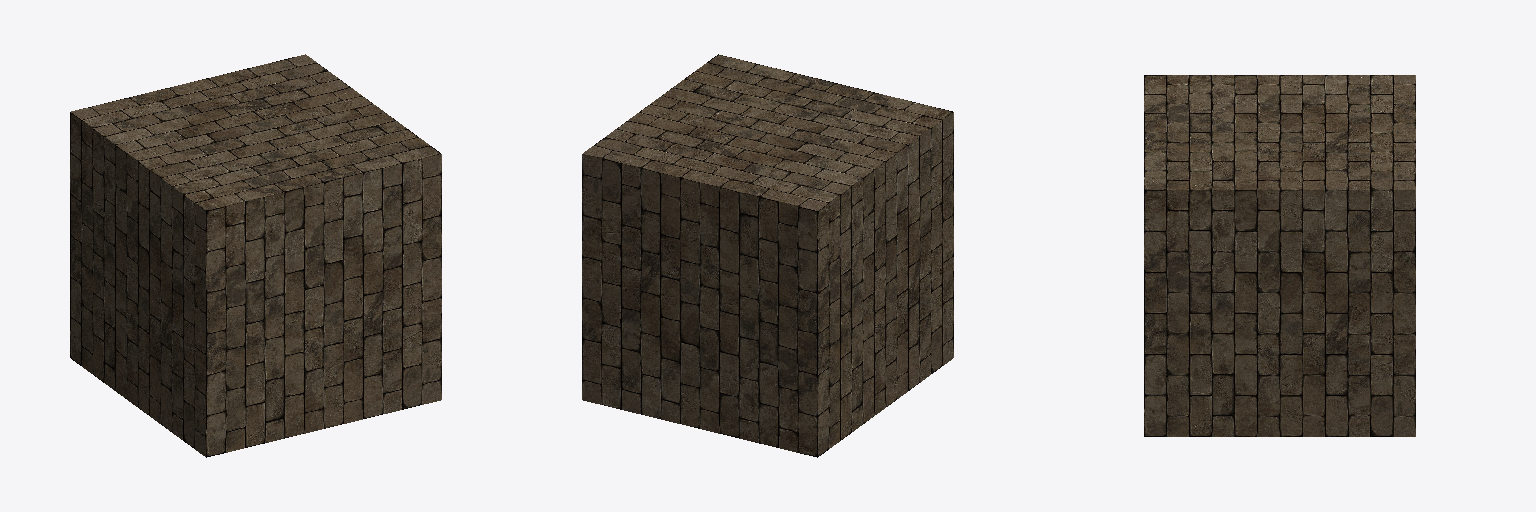
3 views of the same model, side by side, from view 1: azimuth 30°, elevation 25°; view 2: azimuth 150°, elevation 25°; view 3: azimuth 270°, elevation 25° (orthographic).
Visible parts, largest first — view 1: Cube; view 2: Cube; view 3: Cube.
Boxes of the visible parts, box(x1,y1,x2,y2) form: Cube: box(70, 54, 441, 457); Cube: box(582, 54, 953, 457); Cube: box(1144, 75, 1415, 436).
Size of the model in its own units: 2 by 2 by 2.
Materials: 1 (1 with a texture image).